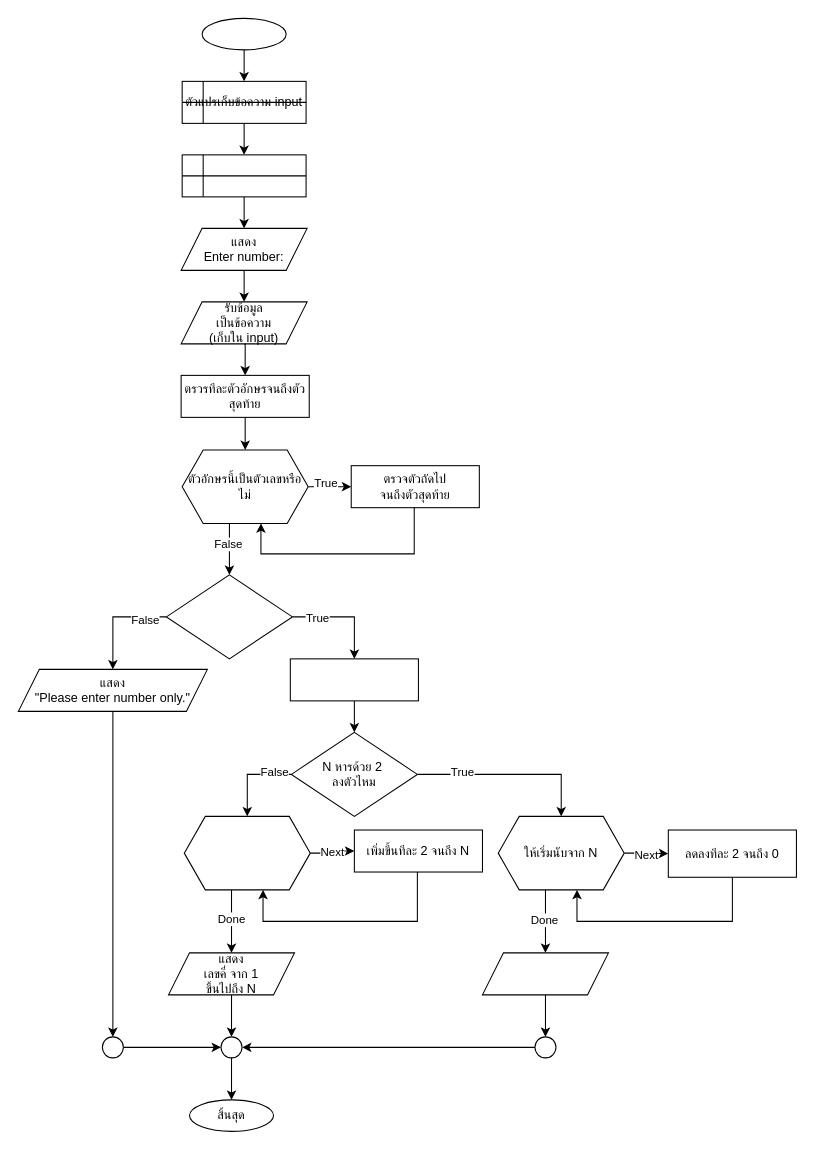
Some shapes in this 815 by 1150 pixel diagram are drawn without their labels. The centre of each missing label's shape, as x and y in pixels:
"ข้อมูลเป็นตัวเลข ทั้งหมดหรือไม่" goes at [228,616].
"ตัวแปรเก็บตัวเลข N" goes at [243,175].
"เริ่มต้น" goes at [243,33].
"แปลงอักษรเป็นตัวเลข (เก็บใน N)" goes at [353,679].
"แสดง เลขคู่ จาก N ลงมาถึง 0" goes at [544,973].
"ให้เริ่มนับจาก 1" goes at [246,852].
